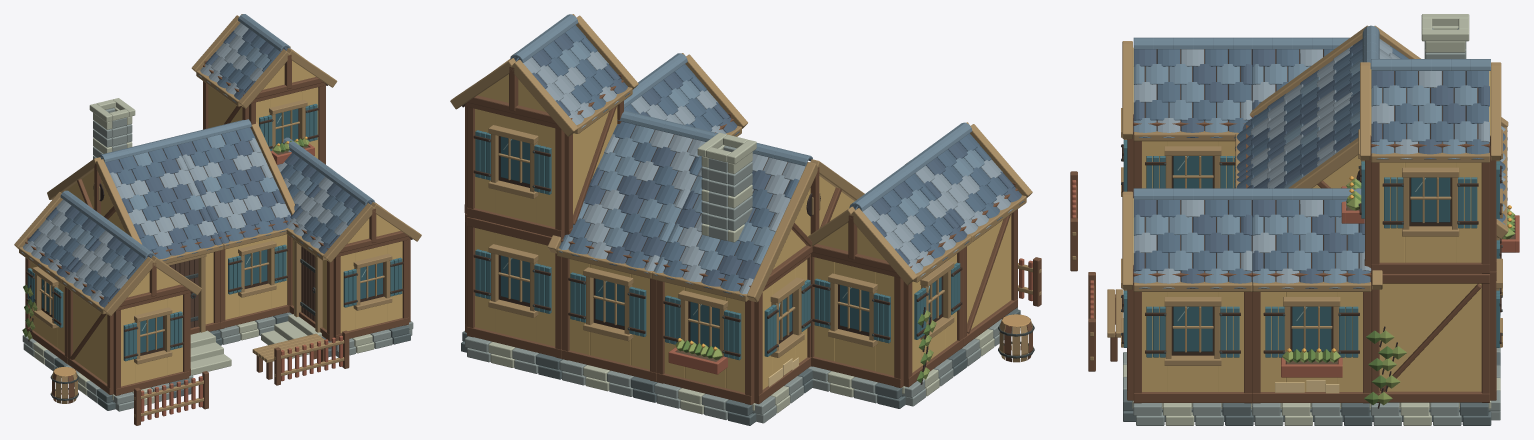
File: family_cluster_finish_ochre.glb
3 renders of one model, left to right at view 1: azimuth 30°, elevation 25°; view 2: azimuth 150°, elevation 25°; view 3: azimuth 270°, elevation 25°, orthographic. The views are drawn at different scales.
Parts seen in each view (by area): view 1: roof_gable_4x2m__finish, roof_gable_4x2m__finish.001, roof_gable_2x2m__finish.001, roof_gable_2x2m__finish.004, roof_gable_2x2m__finish, roof_gable_2x2m__finish.002, wall_window_2m__finish.008, wall_window_2m__finish, wall_window_2m__structure.008, wall_window_2m__structure, wall_window_2m__finish.006, wall_window_2m__structure.006 (+41 smaller); view 2: roof_gable_4x2m__finish, roof_gable_4x2m__finish.001, roof_gable_2x2m__finish, roof_gable_2x2m__finish.001, roof_gable_2x2m__finish.004, wall_window_2m__finish.014, wall_window_2m__finish.002, wall_window_2m__finish.011, wall_window_2m__structure.011, wall_window_2m__structure.014, wall_window_2m__finish.007, wall_window_2m__structure.002 (+38 smaller); view 3: roof_gable_2x2m__finish.002, roof_gable_2x2m__finish.004, roof_gable_2x2m__finish, roof_gable_2x2m__finish.003, wall_plain_2m__finish.001, wall_window_2m__finish.013, wall_window_2m__finish.009, roof_gable_4x2m__finish.001, wall_window_2m__finish.010, wall_window_2m__structure.013, wall_window_2m__structure.009, wall_window_2m__structure.010 (+35 smaller).
Part boxes in pixels (<box>): roof_gable_4x2m__finish: <box>174,119,290,245</box>; roof_gable_4x2m__finish.001: <box>99,137,221,260</box>; roof_gable_2x2m__finish.001: <box>20,190,109,279</box>; roof_gable_2x2m__finish.004: <box>198,14,290,102</box>; roof_gable_2x2m__finish: <box>63,221,155,310</box>; roof_gable_2x2m__finish.002: <box>287,168,374,258</box>; wall_window_2m__finish.008: <box>340,241,402,332</box>; wall_window_2m__finish: <box>121,295,182,386</box>; wall_window_2m__structure.008: <box>333,236,408,340</box>; wall_window_2m__structure: <box>113,290,189,395</box>; wall_window_2m__finish.006: <box>225,234,287,319</box>; wall_window_2m__structure.006: <box>219,220,289,329</box>; roof_gable_4x2m__finish: <box>559,110,715,273</box>; roof_gable_4x2m__finish.001: <box>654,133,812,296</box>; roof_gable_2x2m__finish: <box>908,122,1024,237</box>; roof_gable_2x2m__finish.001: <box>849,163,969,277</box>; roof_gable_2x2m__finish.004: <box>510,14,629,128</box>; wall_window_2m__finish.014: <box>475,109,555,227</box>; wall_window_2m__finish.002: <box>814,257,894,375</box>; wall_window_2m__finish.011: <box>475,228,555,346</box>; wall_window_2m__structure.011: <box>467,217,562,358</box>; wall_window_2m__structure.014: <box>467,102,564,239</box>; wall_window_2m__finish.007: <box>569,259,649,369</box>; wall_window_2m__structure.002: <box>811,252,903,388</box>; roof_gable_2x2m__finish.002: <box>1133,188,1252,288</box>; roof_gable_2x2m__finish.004: <box>1371,59,1490,159</box>; roof_gable_2x2m__finish: <box>1133,37,1252,137</box>; roof_gable_2x2m__finish.003: <box>1252,188,1371,288</box>; wall_plain_2m__finish.001: <box>1379,283,1481,391</box>; wall_window_2m__finish.013: <box>1379,162,1481,262</box>; wall_window_2m__finish.009: <box>1142,292,1243,391</box>; roof_gable_4x2m__finish.001: <box>1234,25,1507,177</box>; wall_window_2m__finish.010: <box>1260,292,1362,391</box>; wall_window_2m__structure.013: <box>1371,142,1489,273</box>; wall_window_2m__structure.009: <box>1133,271,1252,403</box>; wall_window_2m__structure.010: <box>1252,271,1371,403</box>.
Size of the model in its own units: 9.53 by 6.27 by 7.56.
